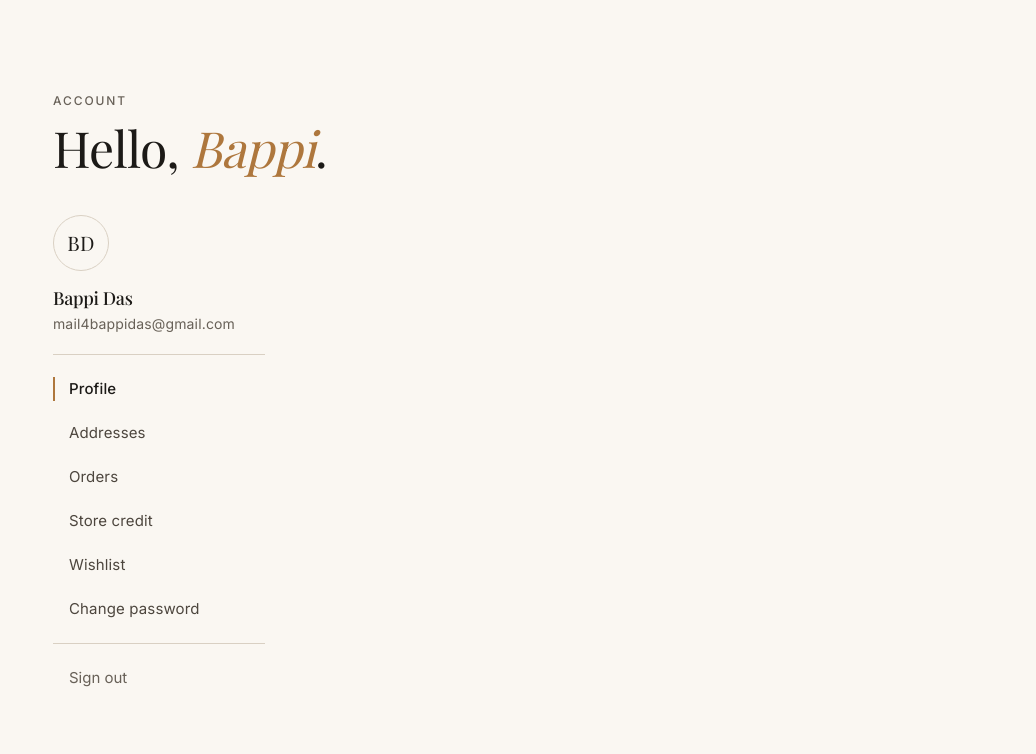
other tabs read nothing; Store credit from the nav reads then, and focus moves to its section
Step 1. Click the link "Store credit" → (111, 521), box [69,511,153,530]
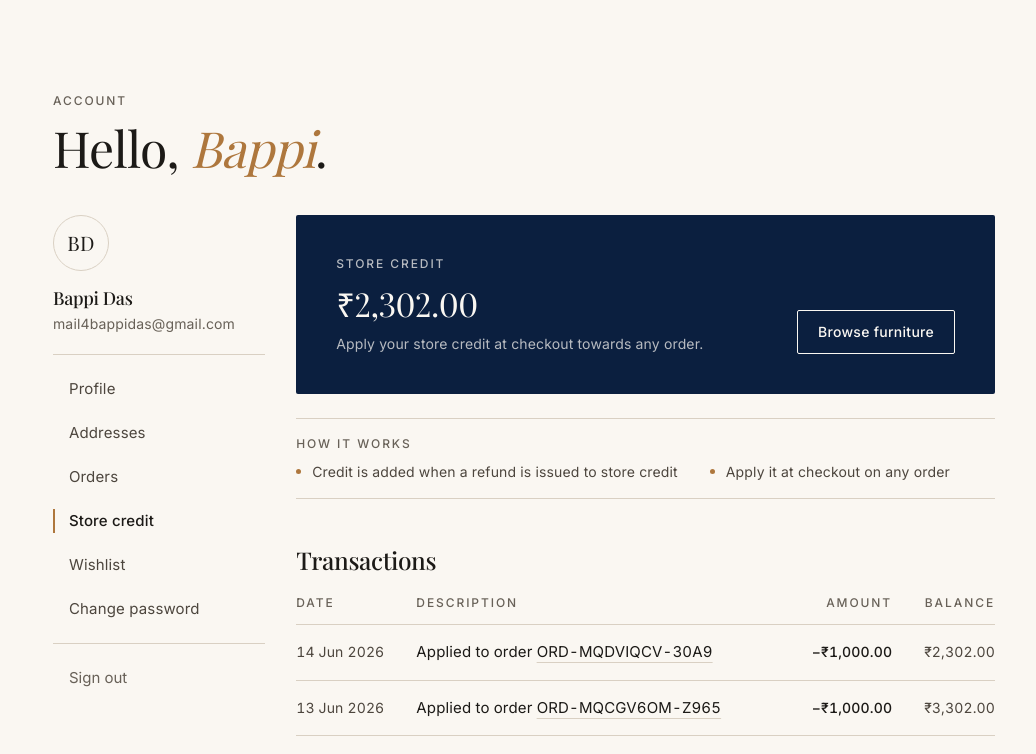
Expected: the text "₹2,302.00" is shown, [336,285,478,321]
